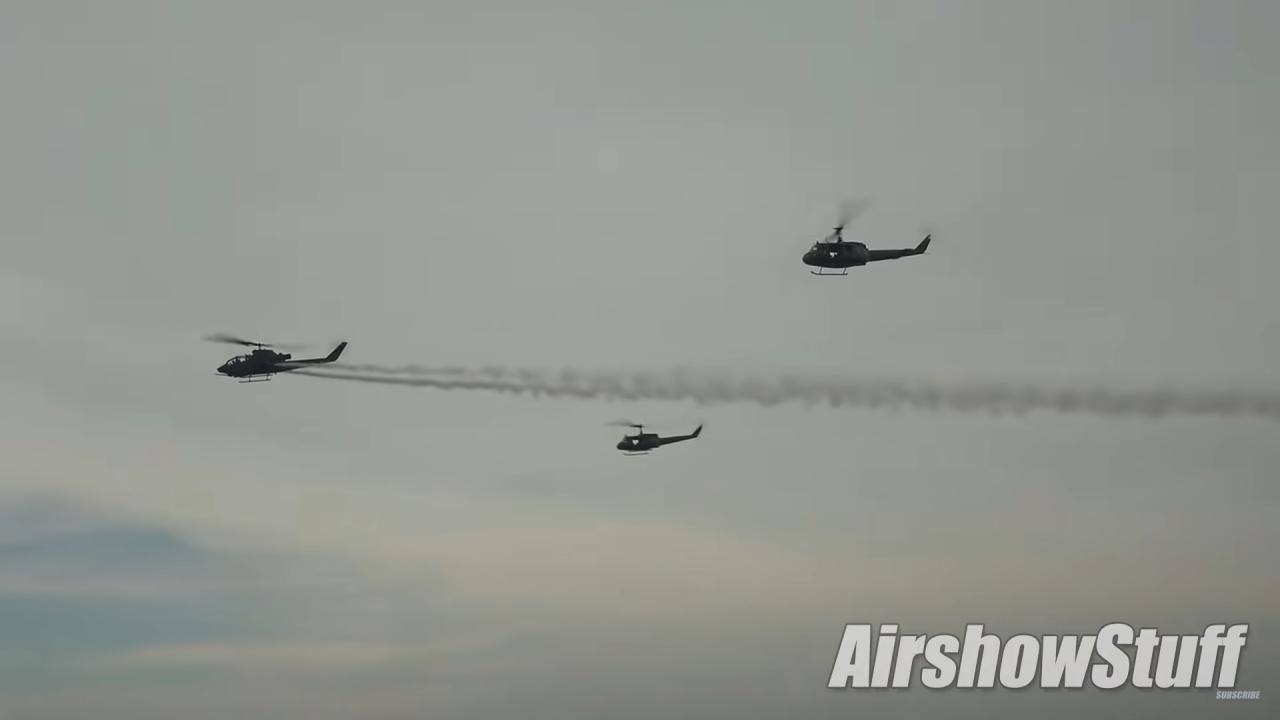Helicopter: (755, 182, 966, 303), (183, 308, 368, 418), (575, 395, 730, 482)
